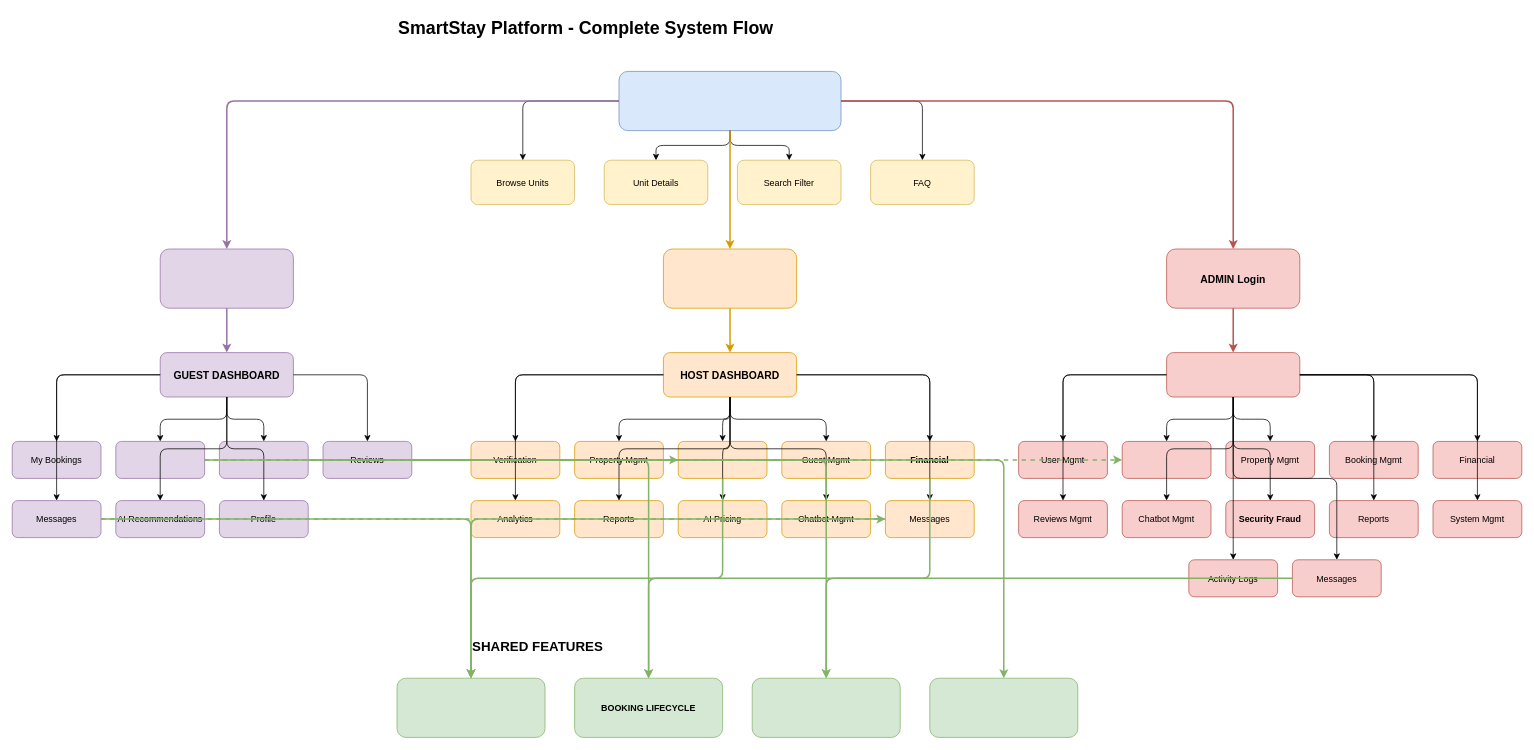
The diagram is 1534 pixels wide and 750 high, and some of its shapes have lost their labels. Each missing label, with the box of its shape:
ADMIN DASHBOARD: (1166, 352, 1300, 397)
Bookings: (677, 441, 767, 478)
Create Booking: (115, 441, 205, 478)
GUEST Login: (159, 248, 293, 308)
HOST Login: (663, 248, 797, 308)
Host Verification: (1121, 441, 1211, 478)
LANDING PAGE: (618, 71, 841, 131)
MESSAGING SYSTEM: (396, 677, 545, 737)
Payment: (219, 441, 308, 478)
PAYMENT SYSTEM: (751, 677, 900, 737)
REVIEW SYSTEM: (929, 677, 1078, 737)
